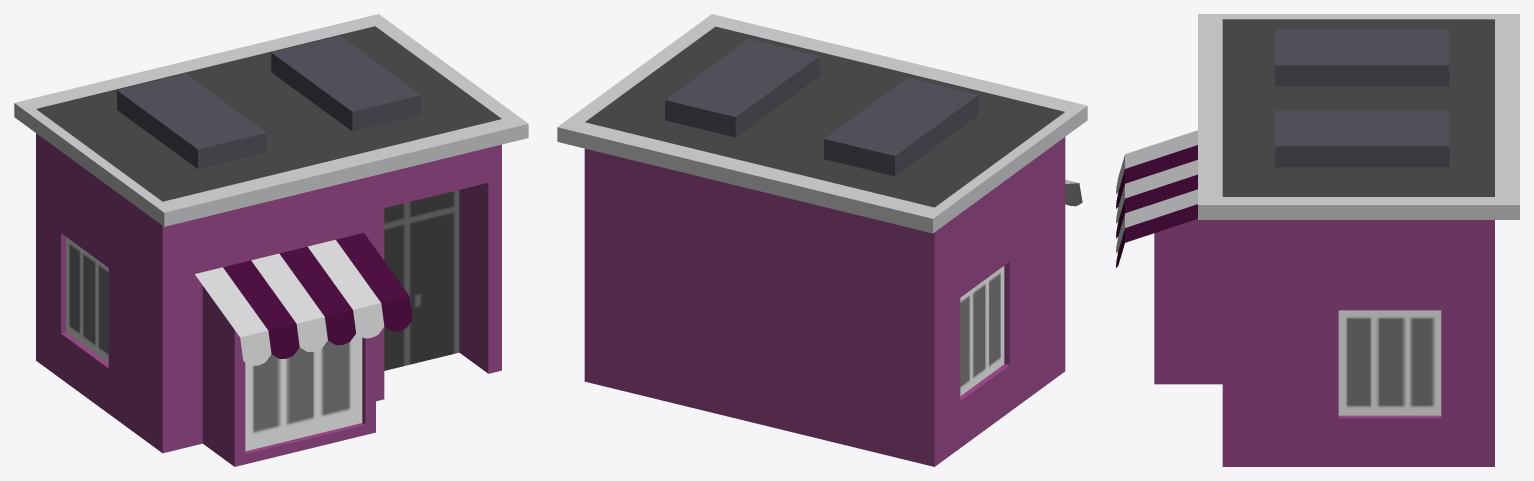
The model's file is building8c.FBX.
3 renders of one model, left to right at view 1: azimuth 30°, elevation 25°; view 2: azimuth 150°, elevation 25°; view 3: azimuth 270°, elevation 25°, orthographic. The views are drawn at different scales.
Parts seen in each view (by area): view 1: building8c; view 2: building8c; view 3: building8c.
Boxes of the visible parts, x1,y1,x2,y2 form: building8c: (14, 14, 528, 466); building8c: (557, 14, 1087, 466); building8c: (1116, 14, 1519, 466).
Size of the model in its own units: 12.91 by 9.18 by 11.55.
